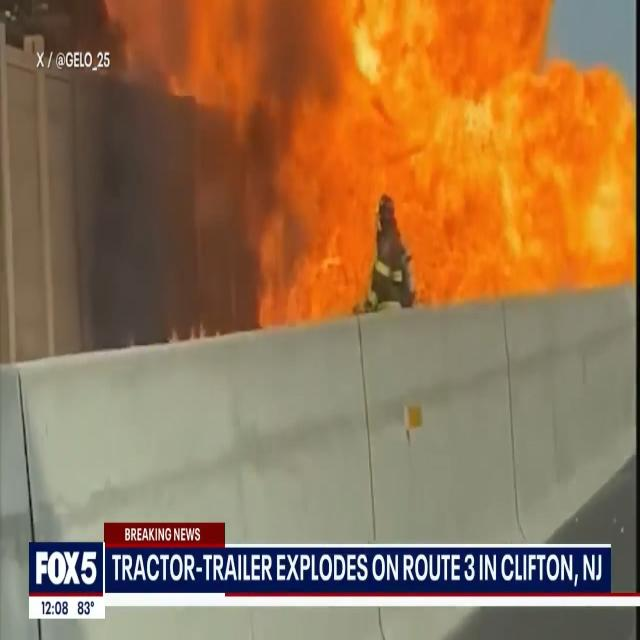fire: (161, 4, 629, 190), (376, 2, 638, 202), (260, 13, 371, 313), (406, 206, 639, 298)
